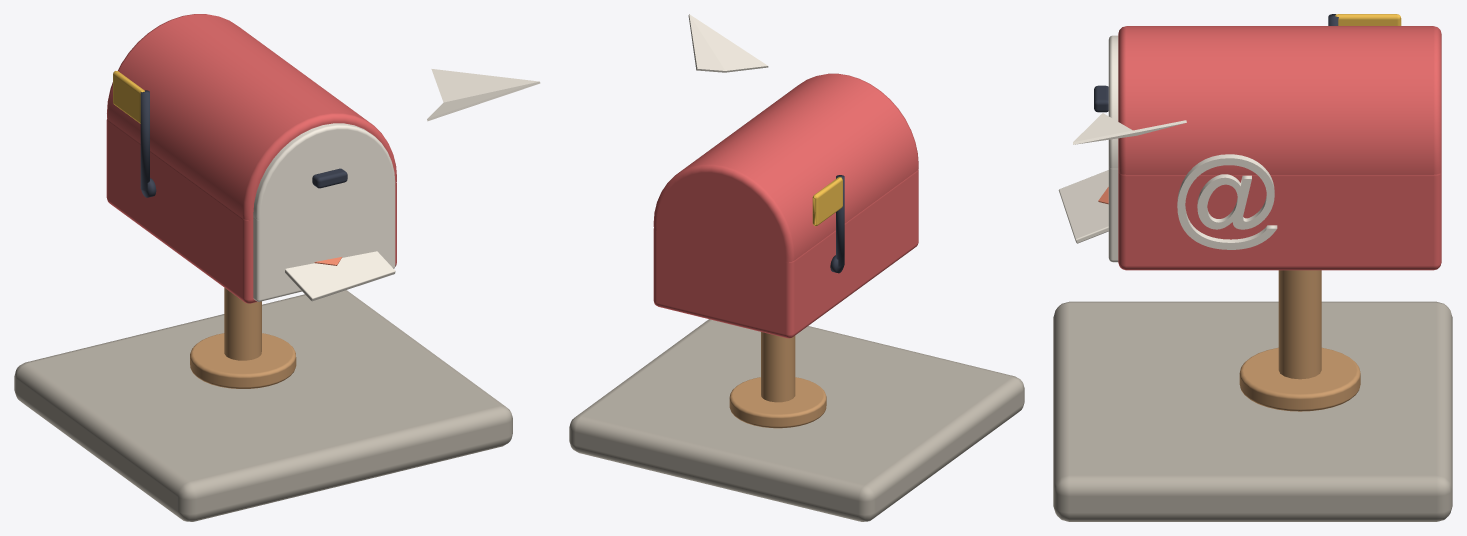
The model's file is contact.glb.
3 views of the same model, side by side, from view 1: azimuth 30°, elevation 25°; view 2: azimuth 150°, elevation 25°; view 3: azimuth 270°, elevation 25° (orthographic). The views are drawn at different scales.
Parts seen in each view (by area): view 1: Contact, Contact_Box, Contact_Door, Contact_Post, Contact_Letter, Contact_Plane, Contact_FlagArm, Contact_FlagSign; view 2: Contact, Contact_Box, Contact_Post, Contact_Plane, Contact_FlagSign, Contact_FlagArm; view 3: Contact, Contact_Box, Contact_Post, Contact_At, Contact_Letter, Contact_Door, Contact_Plane, Contact_FlagSign.
Part boxes in pixels (<box>): Contact: <box>14,290,512,521</box>; Contact_Box: <box>106,14,396,303</box>; Contact_Door: <box>253,123,395,301</box>; Contact_Post: <box>190,288,296,388</box>; Contact_Letter: <box>285,251,395,301</box>; Contact_Plane: <box>427,69,540,121</box>; Contact_FlagArm: <box>140,90,156,197</box>; Contact_FlagSign: <box>113,71,144,123</box>; Contact: <box>569,319,1024,521</box>; Contact_Box: <box>653,73,918,338</box>; Contact_Post: <box>729,332,826,428</box>; Contact_Plane: <box>688,14,768,72</box>; Contact_FlagSign: <box>812,177,842,225</box>; Contact_FlagArm: <box>830,175,844,273</box>; Contact: <box>1053,301,1452,521</box>; Contact_Box: <box>1118,26,1441,270</box>; Contact_Post: <box>1239,270,1360,411</box>; Contact_At: <box>1177,154,1277,249</box>; Contact_Letter: <box>1058,170,1108,243</box>; Contact_Door: <box>1108,35,1118,262</box>; Contact_Plane: <box>1073,113,1186,144</box>; Contact_FlagSign: <box>1335,14,1401,25</box>.
Bounding box in the file's own units: 4.81 × 4.44 × 4.
